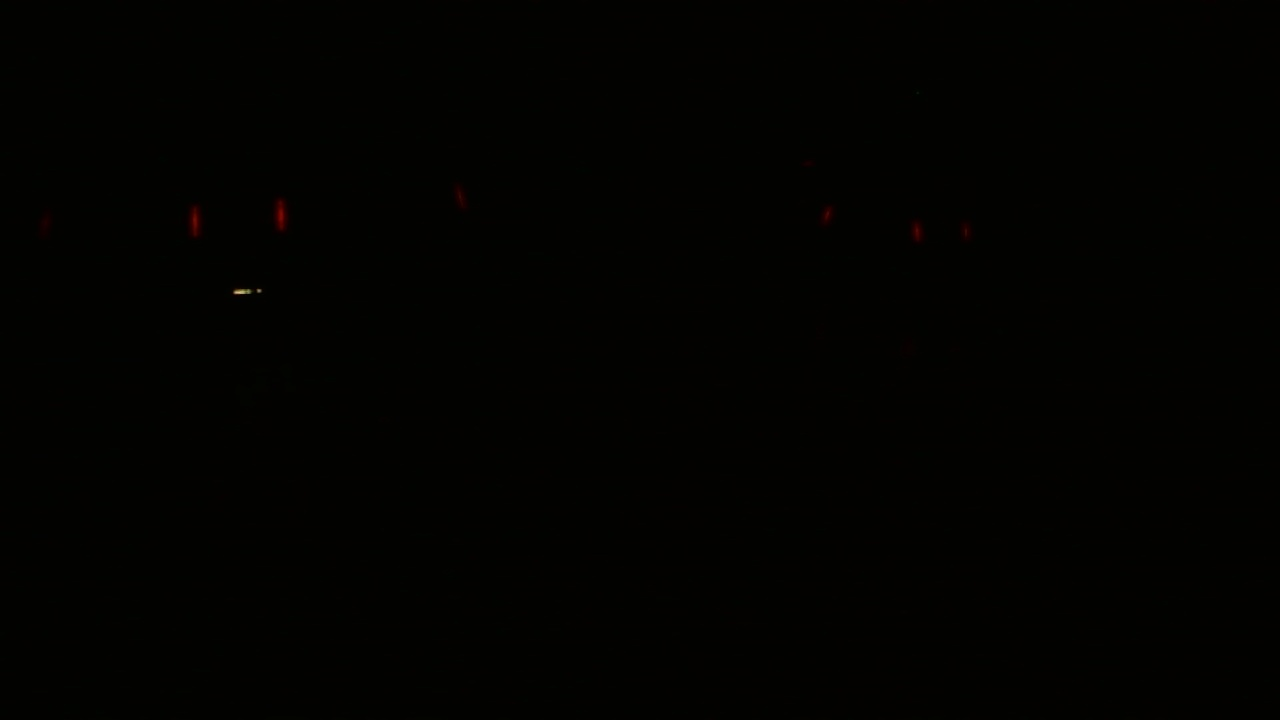pair1: (182, 192, 298, 248)
pair2: (907, 213, 981, 254)
